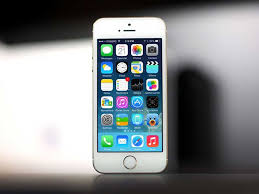iphone: (88, 14, 171, 179)
iphone5: (87, 13, 170, 178)
